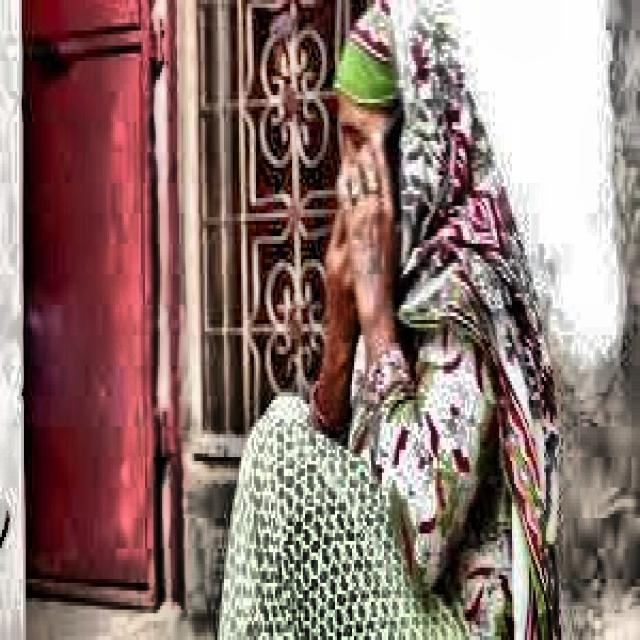Human: (201, 12, 600, 640)
